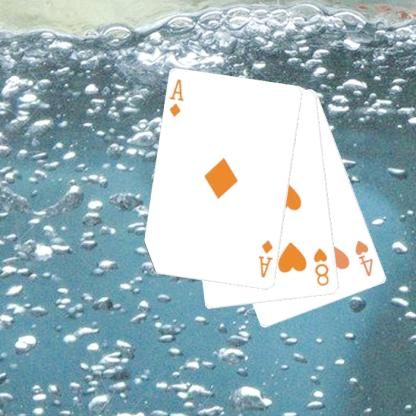4H: (352, 238, 375, 278)
8H: (311, 245, 331, 288)
AD: (166, 77, 186, 118), (256, 238, 274, 279)
